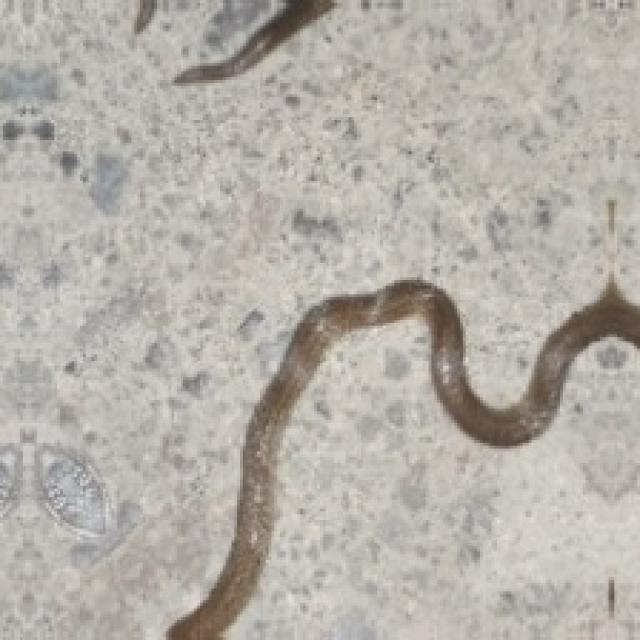gervais worm snake: (166, 203, 637, 637), (175, 0, 334, 83)
